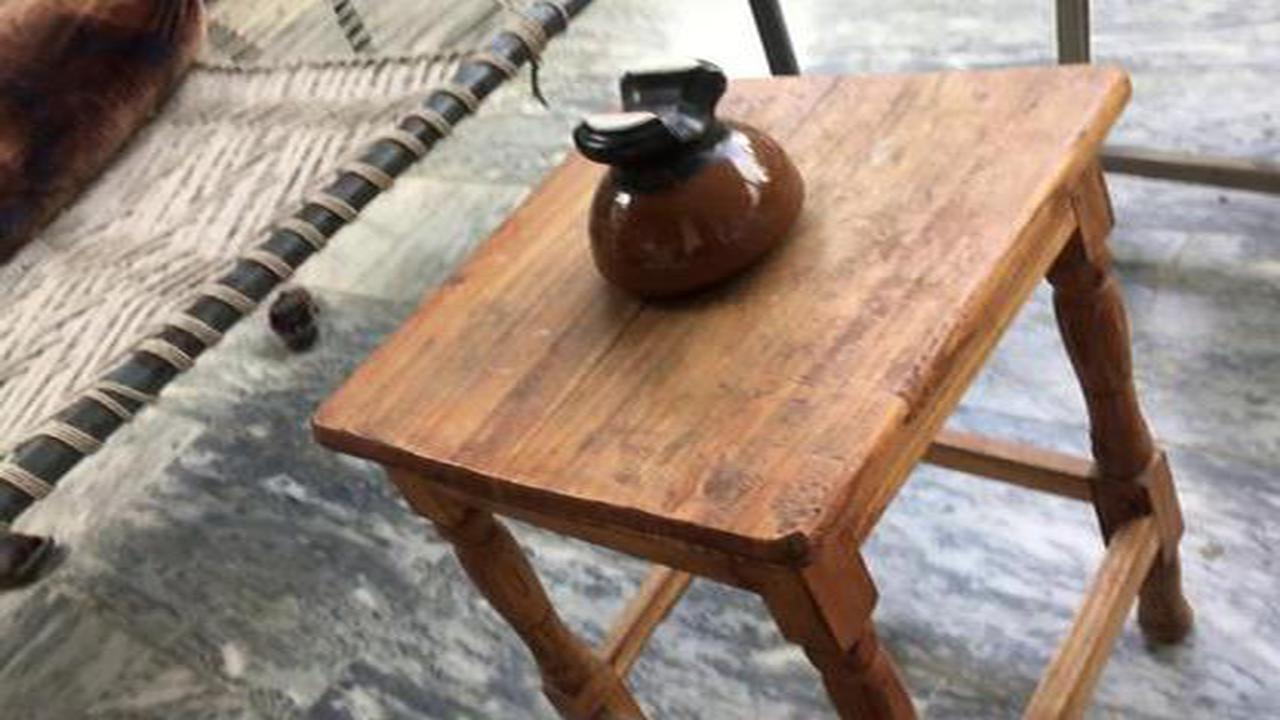insulator_pin: (554, 51, 816, 317)
